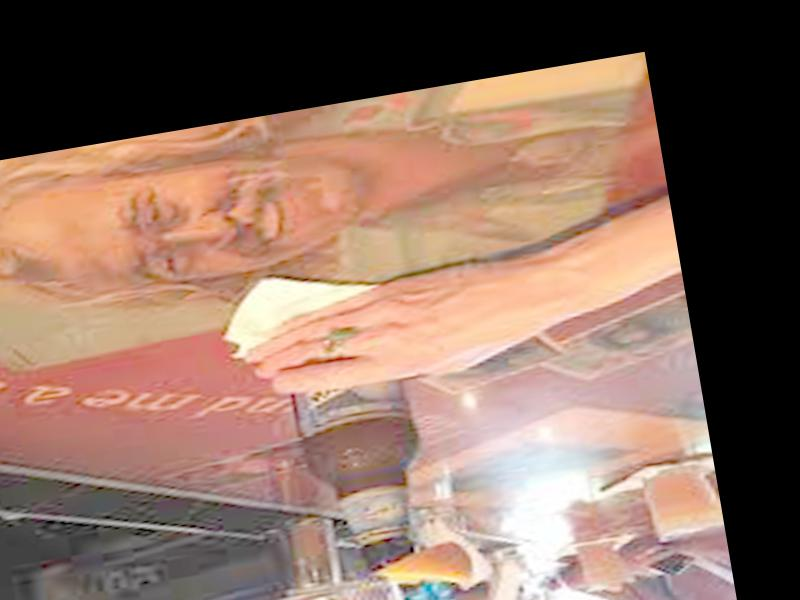Beer: (273, 299, 433, 586)
